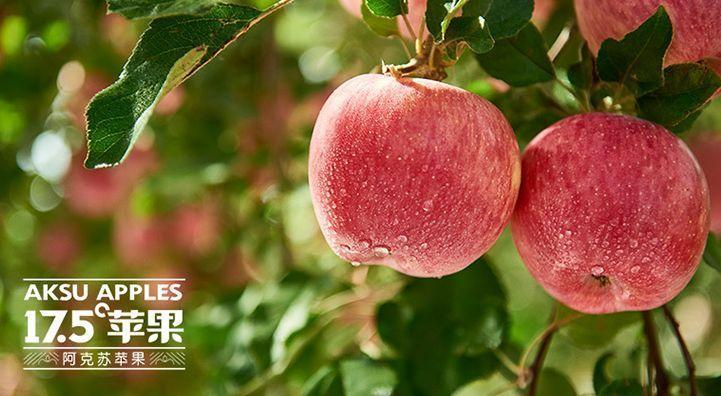apple: (309, 73, 519, 277), (511, 113, 710, 316)
